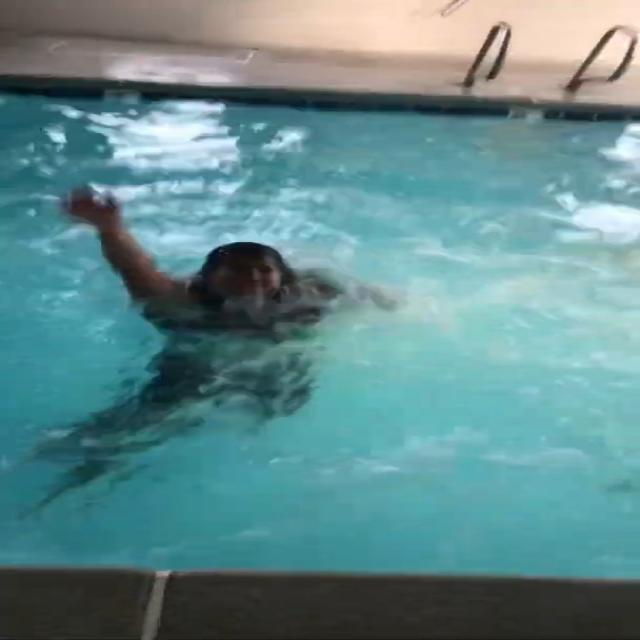Drowning: (12, 174, 466, 524)
